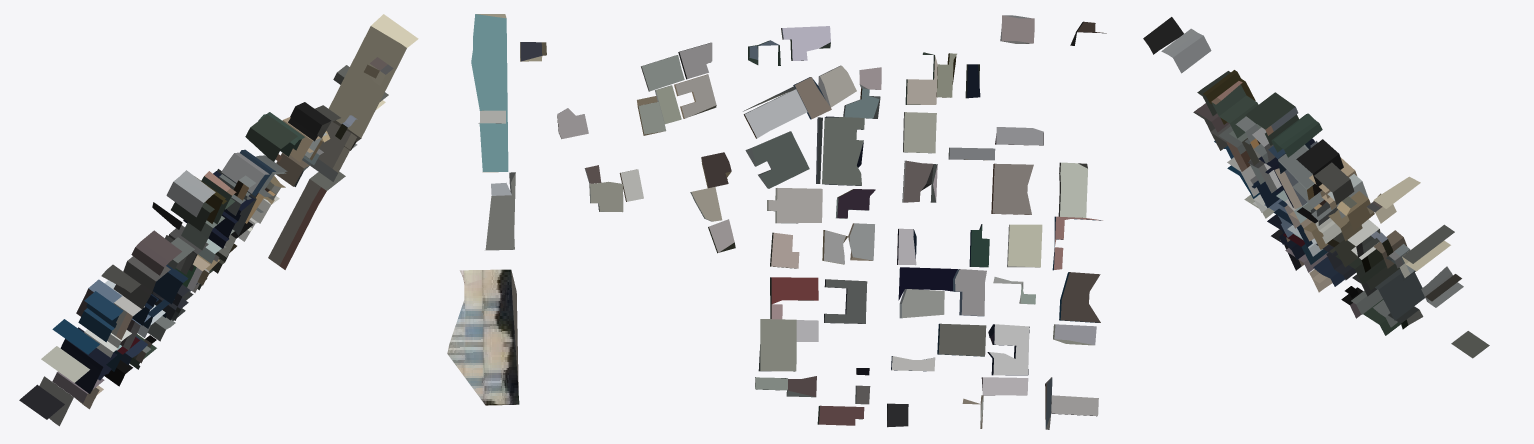
3 views of the same model, side by side, from view 1: azimuth 30°, elevation 25°; view 2: azimuth 150°, elevation 25°; view 3: azimuth 270°, elevation 25° (orthographic). The views are drawn at different scales.
Bounding box in the file's own units: 235 × 139 × 171.
Materials: 2 (1 with a texture image).
